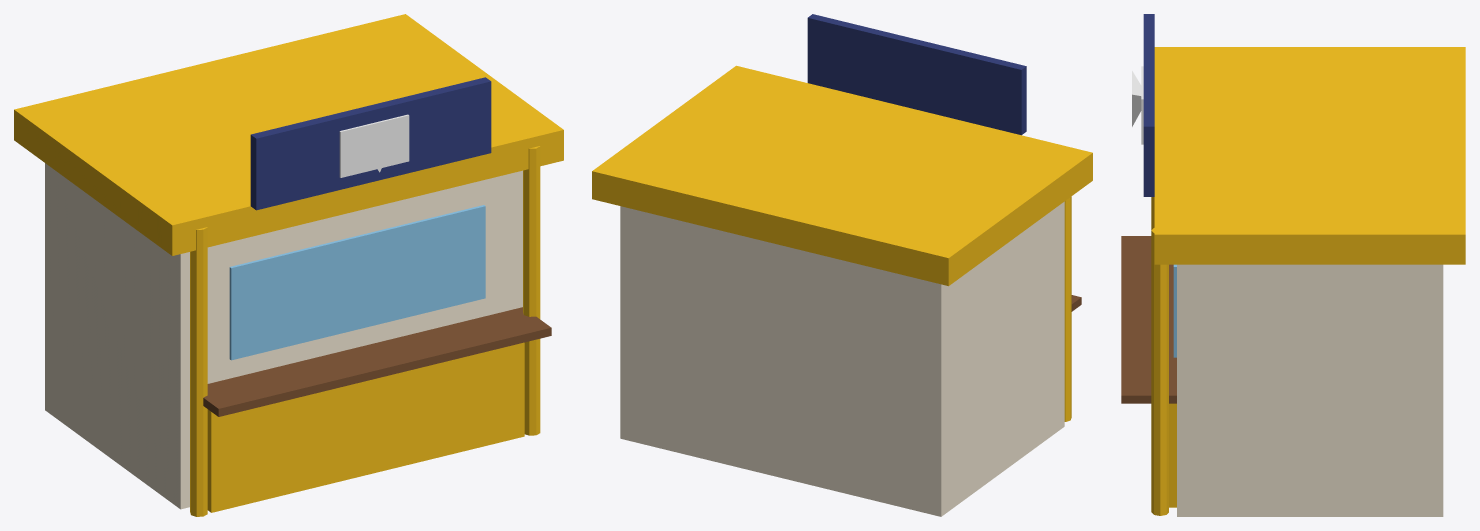
Rendered from post_office.glb.
3 views of the same model, side by side, from view 1: azimuth 30°, elevation 25°; view 2: azimuth 150°, elevation 25°; view 3: azimuth 270°, elevation 25° (orthographic). The views are drawn at different scales.
Parts seen in each view (by area): view 1: post_office; view 2: post_office; view 3: post_office.
Boxes of the visible parts, x1,y1,x2,y2 form: post_office: (14, 14, 563, 516); post_office: (592, 14, 1092, 516); post_office: (1121, 14, 1465, 516).
Bounding box in the file's own units: 4 × 3.6 × 3.1.
